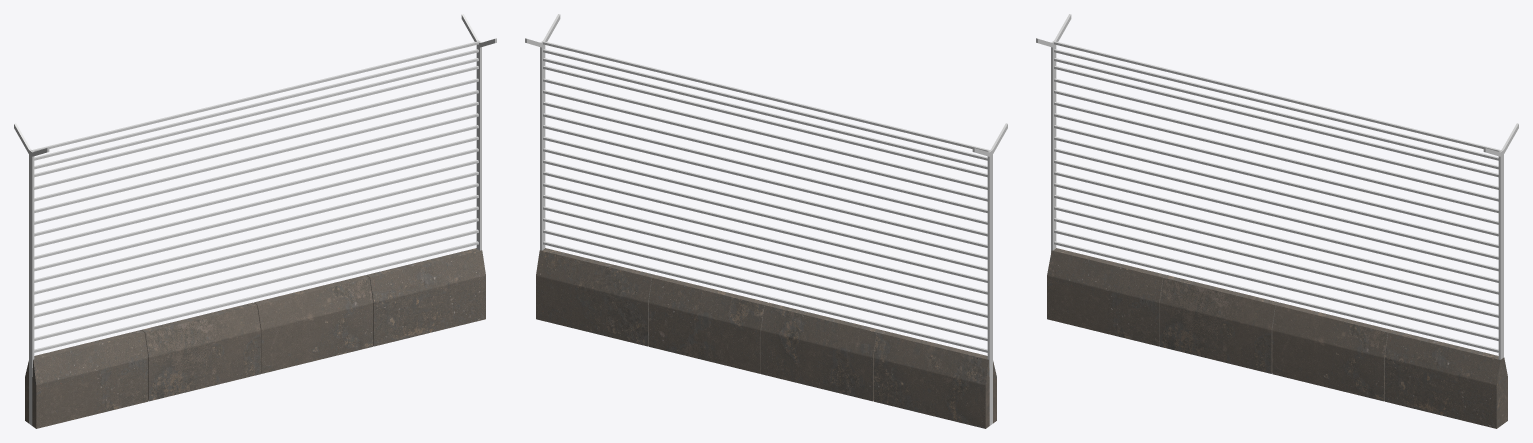
File: NewFence .fbx
3 renders of one model, left to right at view 1: azimuth 30°, elevation 25°; view 2: azimuth 150°, elevation 25°; view 3: azimuth 330°, elevation 25°, orthographic.
Visible parts, largest first — view 1: Barb Wire Metal Fence; view 2: Barb Wire Metal Fence; view 3: Barb Wire Metal Fence.
Part boxes in pixels (bbox=[...]): Barb Wire Metal Fence: bbox=[14, 14, 496, 428]; Barb Wire Metal Fence: bbox=[525, 14, 1007, 428]; Barb Wire Metal Fence: bbox=[1036, 14, 1518, 428].
Size of the model in its own units: 538 by 330 by 68.82.
